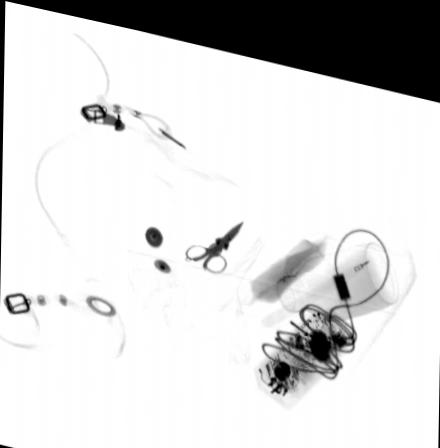Scissors: (182, 208, 244, 263)
